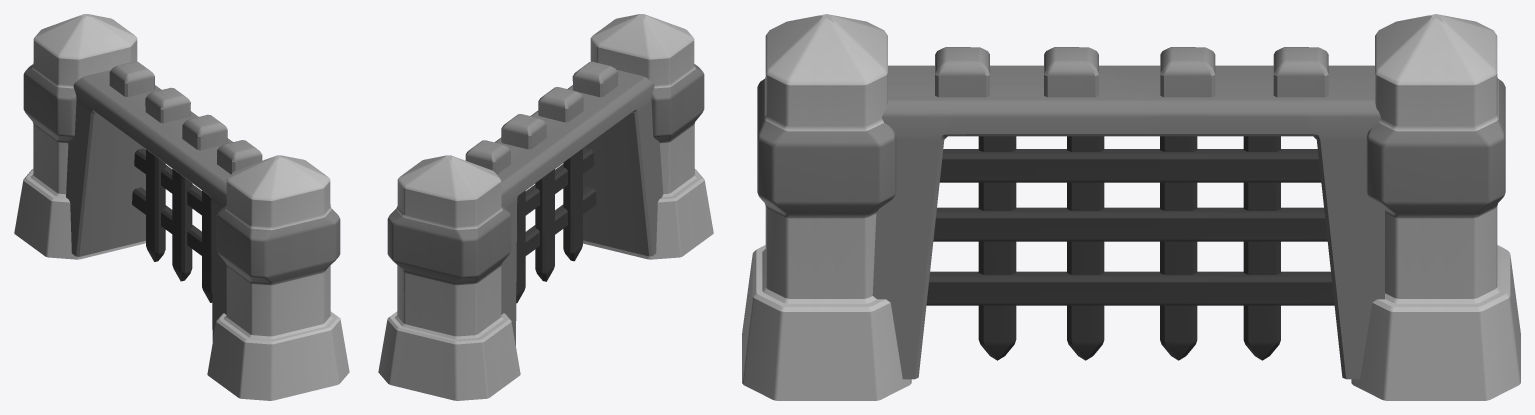
File: WallGate.fbx
3 renders of one model, left to right at view 1: azimuth 30°, elevation 25°; view 2: azimuth 150°, elevation 25°; view 3: azimuth 270°, elevation 25°, orthographic. The views are drawn at different scales.
Visible parts, largest first — view 1: GateWall, Gate; view 2: GateWall, Gate; view 3: GateWall, Gate.
Part boxes in pixels (x1,y1,x2,y2): GateWall: [14, 14, 349, 400]; Gate: [132, 148, 212, 302]; GateWall: [378, 14, 713, 400]; Gate: [516, 148, 596, 303]; GateWall: [742, 14, 1520, 400]; Gate: [926, 136, 1334, 360].
Size of the model in its own units: 0.3953 by 0.7406 by 1.53.
Materials: 1 (1 with a texture image).
